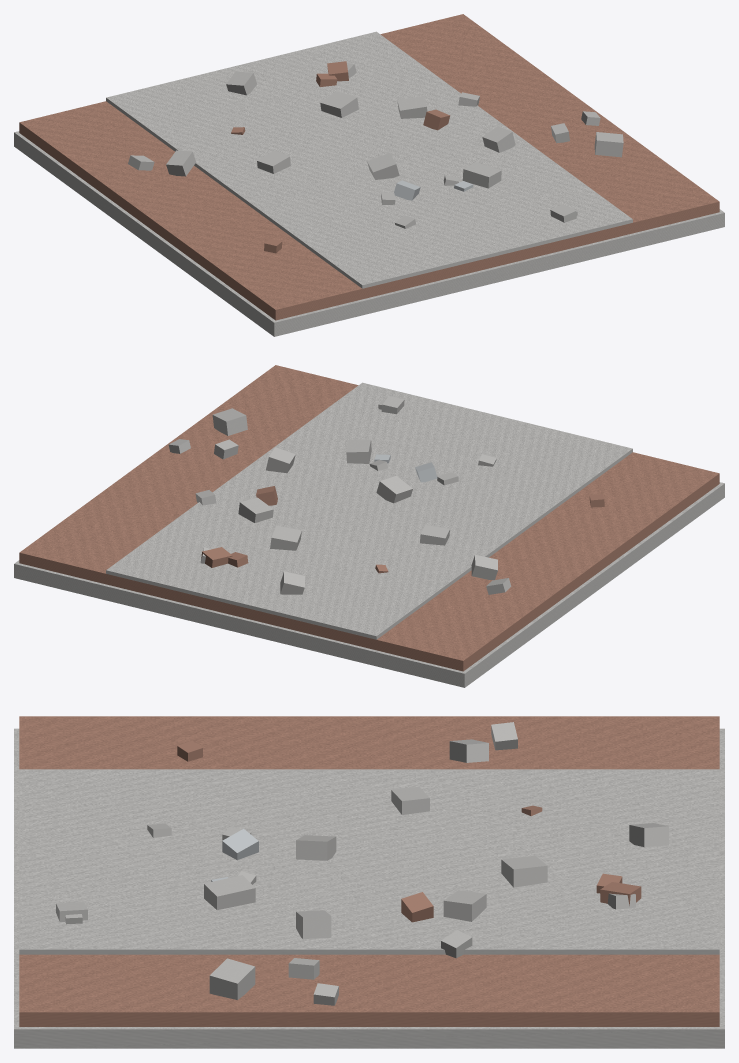
File: demolition-and-site-clearance-demolition-and-site-clea-d0484a82__35666.glb
3 renders of one model, top to bottom at view 1: azimuth 30°, elevation 25°; view 2: azimuth 150°, elevation 25°; view 3: azimuth 270°, elevation 25°, orthographic. The views are drawn at different scales.
Parts seen in each view (by area): view 1: demolition-and-site-clearance-crushed-hardcore-tile; view 2: demolition-and-site-clearance-crushed-hardcore-tile; view 3: demolition-and-site-clearance-crushed-hardcore-tile.
Part boxes in pixels (x1,y1,x2,y2): demolition-and-site-clearance-crushed-hardcore-tile: [14, 14, 724, 336]; demolition-and-site-clearance-crushed-hardcore-tile: [14, 365, 724, 687]; demolition-and-site-clearance-crushed-hardcore-tile: [14, 716, 724, 1048].
Size of the model in its own units: 4 by 0.3726 by 4.
3 materials, 2 textured.
